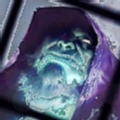Yorick: (1, 1, 120, 119)
